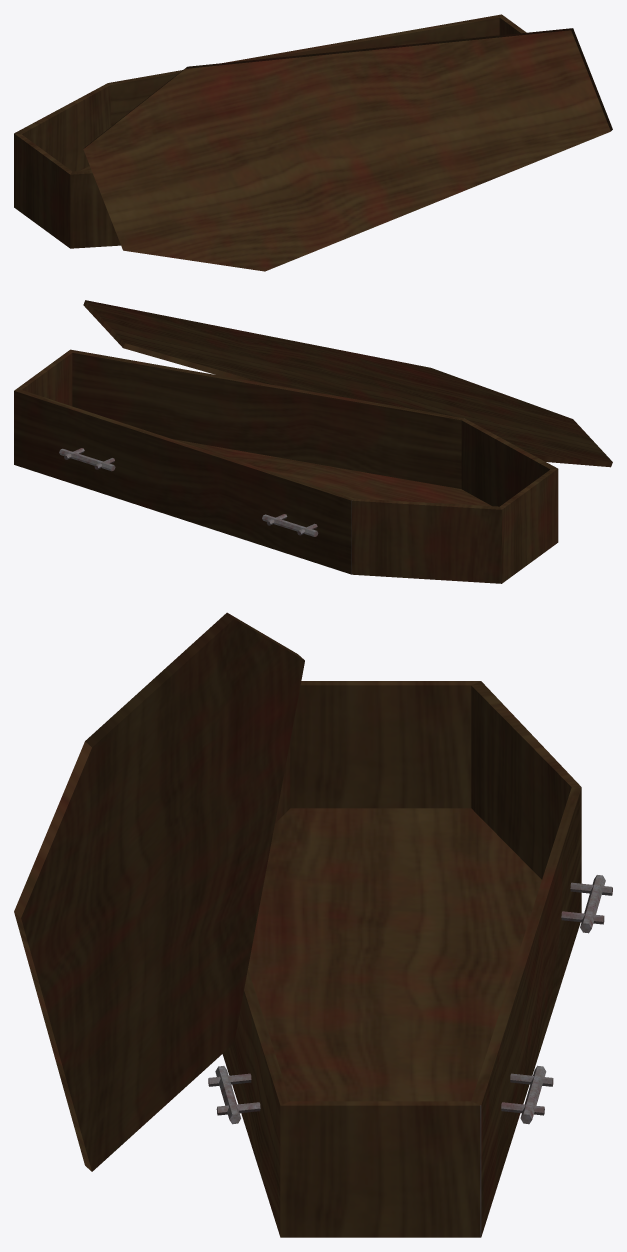
The model's file is coffin.glb.
3 views of the same model, one above another, from view 1: azimuth 30°, elevation 25°; view 2: azimuth 150°, elevation 25°; view 3: azimuth 270°, elevation 25° (orthographic). The views are drawn at different scales.
Visible parts, largest first — view 1: coffin_003; view 2: coffin_003; view 3: coffin_003.
Boxes of the visible parts, box(x1,y1,x2,y2) form: coffin_003: box(14, 14, 612, 271); coffin_003: box(14, 300, 612, 583); coffin_003: box(14, 612, 612, 1237).
Size of the model in its own units: 2 by 0.5822 by 1.19.
1 material, 1 textured.
